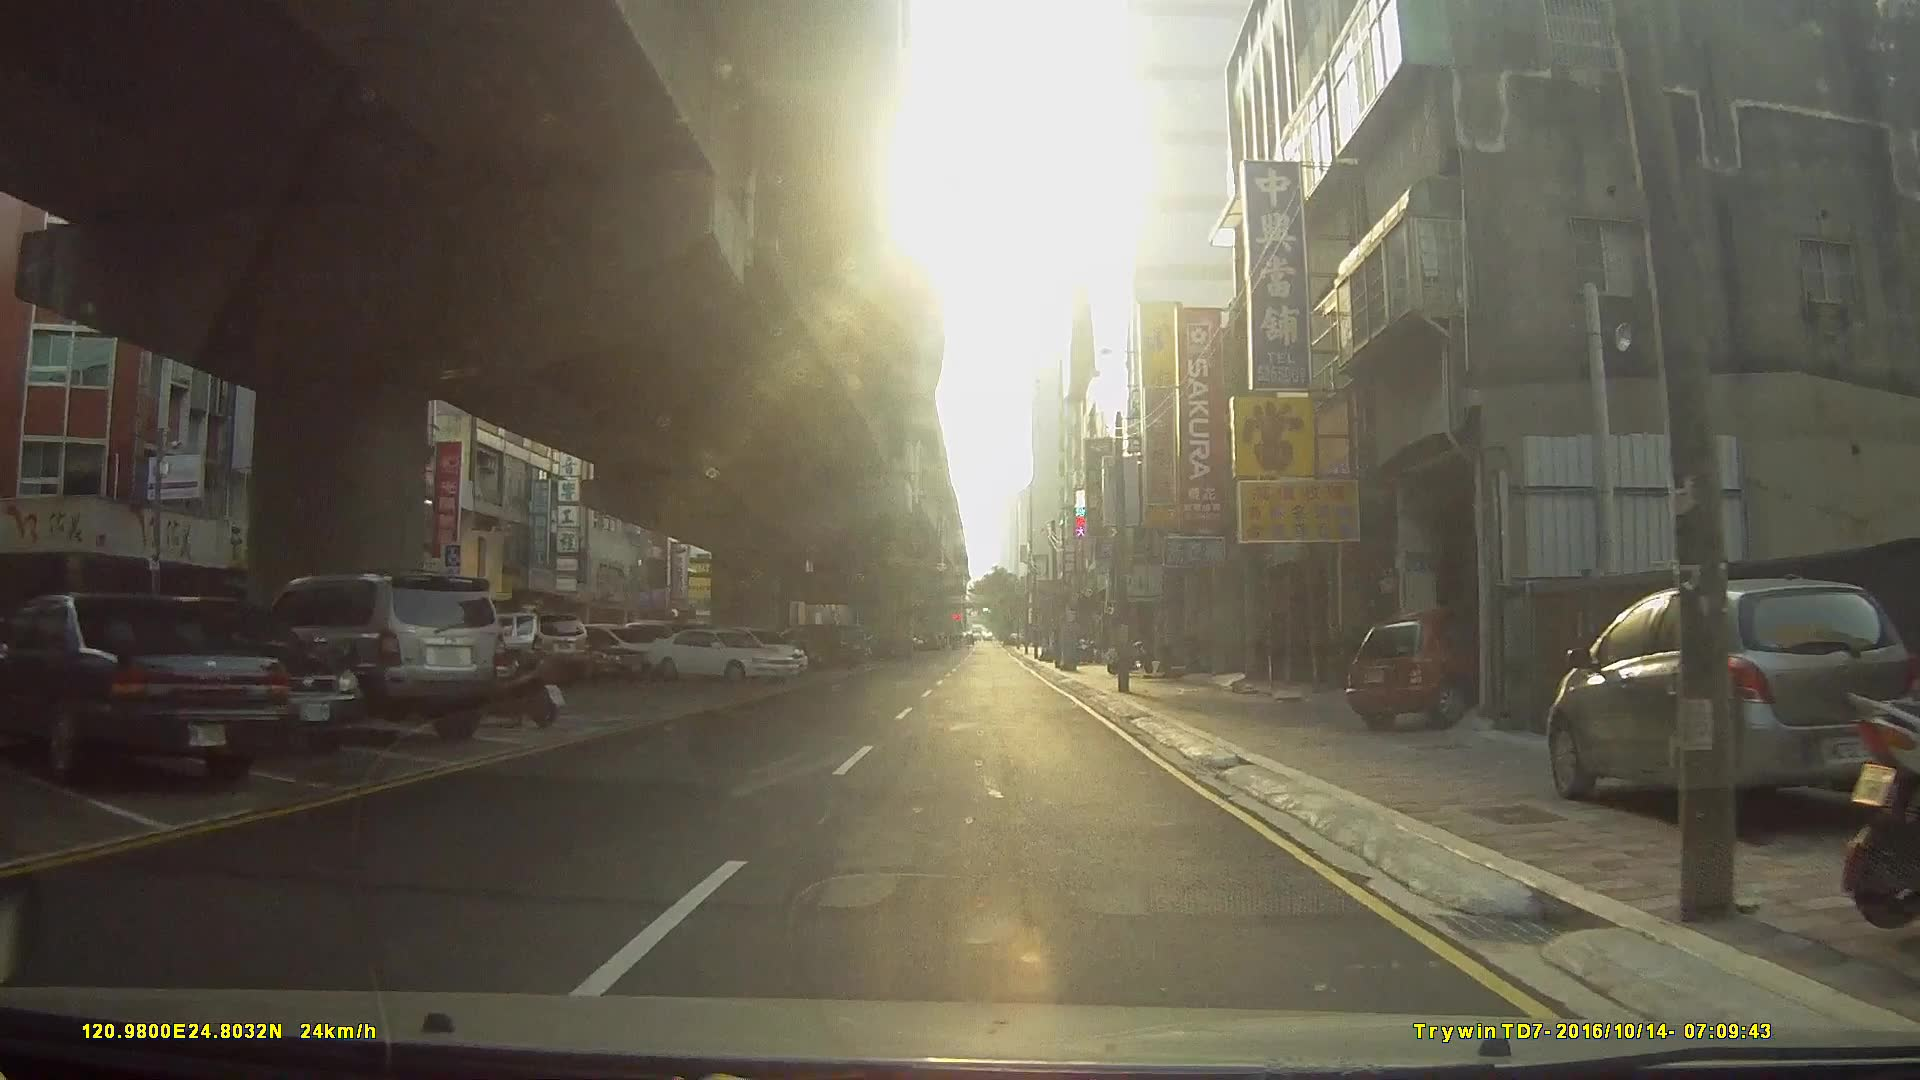vehicle: (1545, 574, 1920, 819), (0, 589, 290, 785), (241, 570, 512, 742), (99, 596, 364, 754), (1346, 604, 1520, 727), (495, 622, 649, 684), (641, 622, 799, 682), (465, 609, 589, 680)
